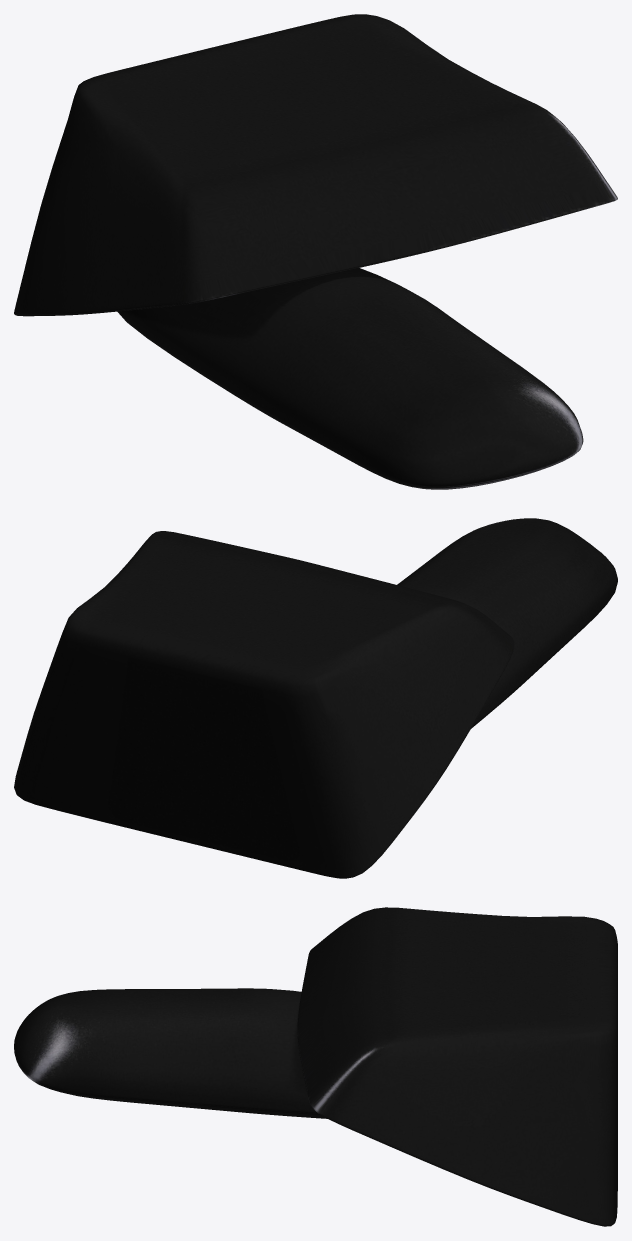
Rendered from 10109_Cordless Phone_v2_Iteration2.obj.
3 renders of one model, top to bottom at view 1: azimuth 30°, elevation 25°; view 2: azimuth 150°, elevation 25°; view 3: azimuth 270°, elevation 25°, orthographic. The views are drawn at different scales.
Parts seen in each view (by area): view 1: 10109_Cordless_Phone_v1_1, 10109_Cordless_Phone_v1_2; view 2: 10109_Cordless_Phone_v1_1, 10109_Cordless_Phone_v1_2; view 3: 10109_Cordless_Phone_v1_1, 10109_Cordless_Phone_v1_2.
Part boxes in pixels (<box>): 10109_Cordless_Phone_v1_1: <box>14,14,617,316</box>; 10109_Cordless_Phone_v1_2: <box>117,268,583,489</box>; 10109_Cordless_Phone_v1_1: <box>14,531,514,878</box>; 10109_Cordless_Phone_v1_2: <box>397,518,617,728</box>; 10109_Cordless_Phone_v1_1: <box>297,907,617,1226</box>; 10109_Cordless_Phone_v1_2: <box>14,988,327,1118</box>.
Bounding box in the file's own units: 14.16 × 6.68 × 20.74.
1 material, 1 textured.
